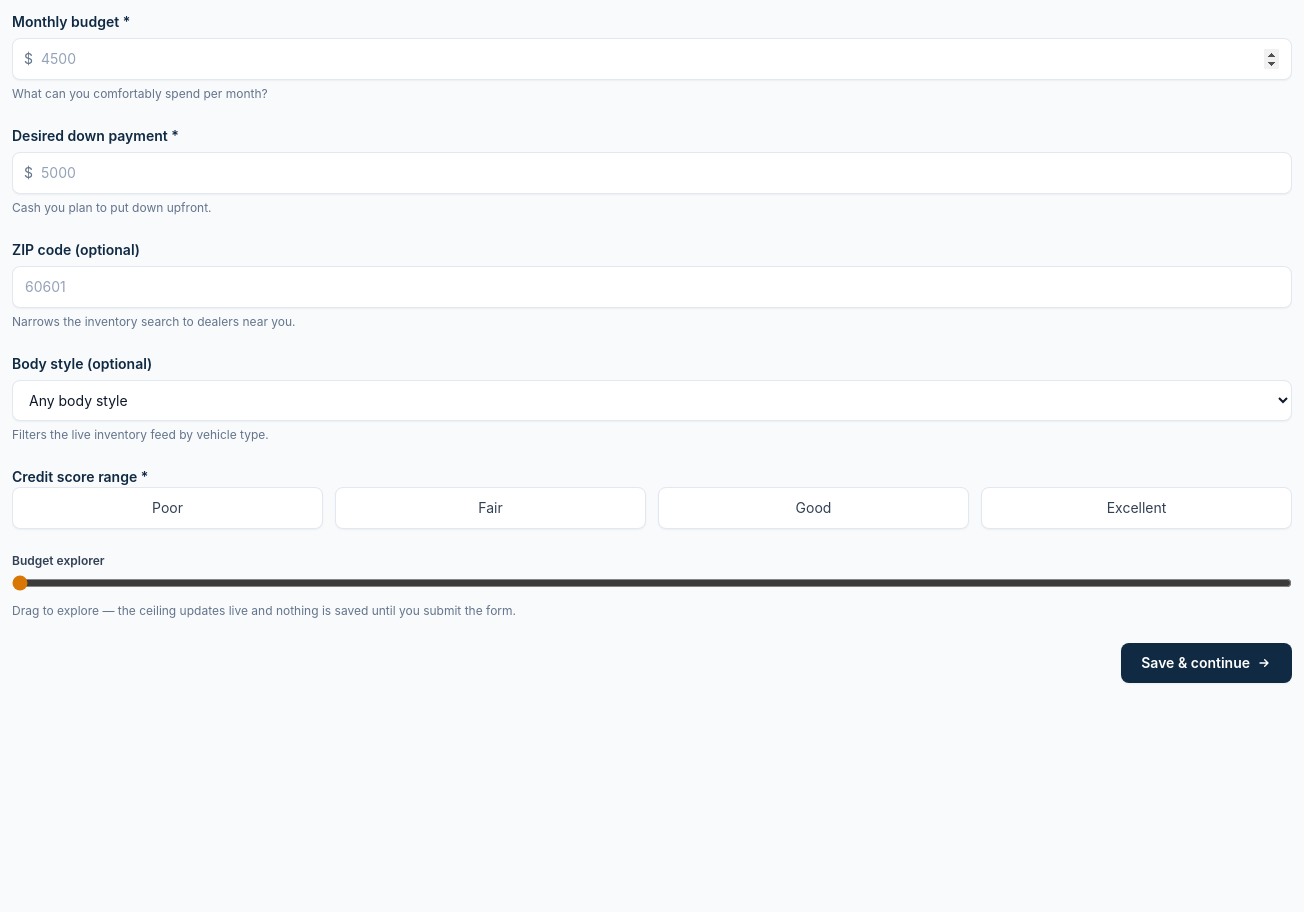
Test: IntakeForm › rejects empty monthly budget
Type "1000" into the number field labelled "Desired down payment *". click: (652, 173)
box: [12, 152, 1292, 194]
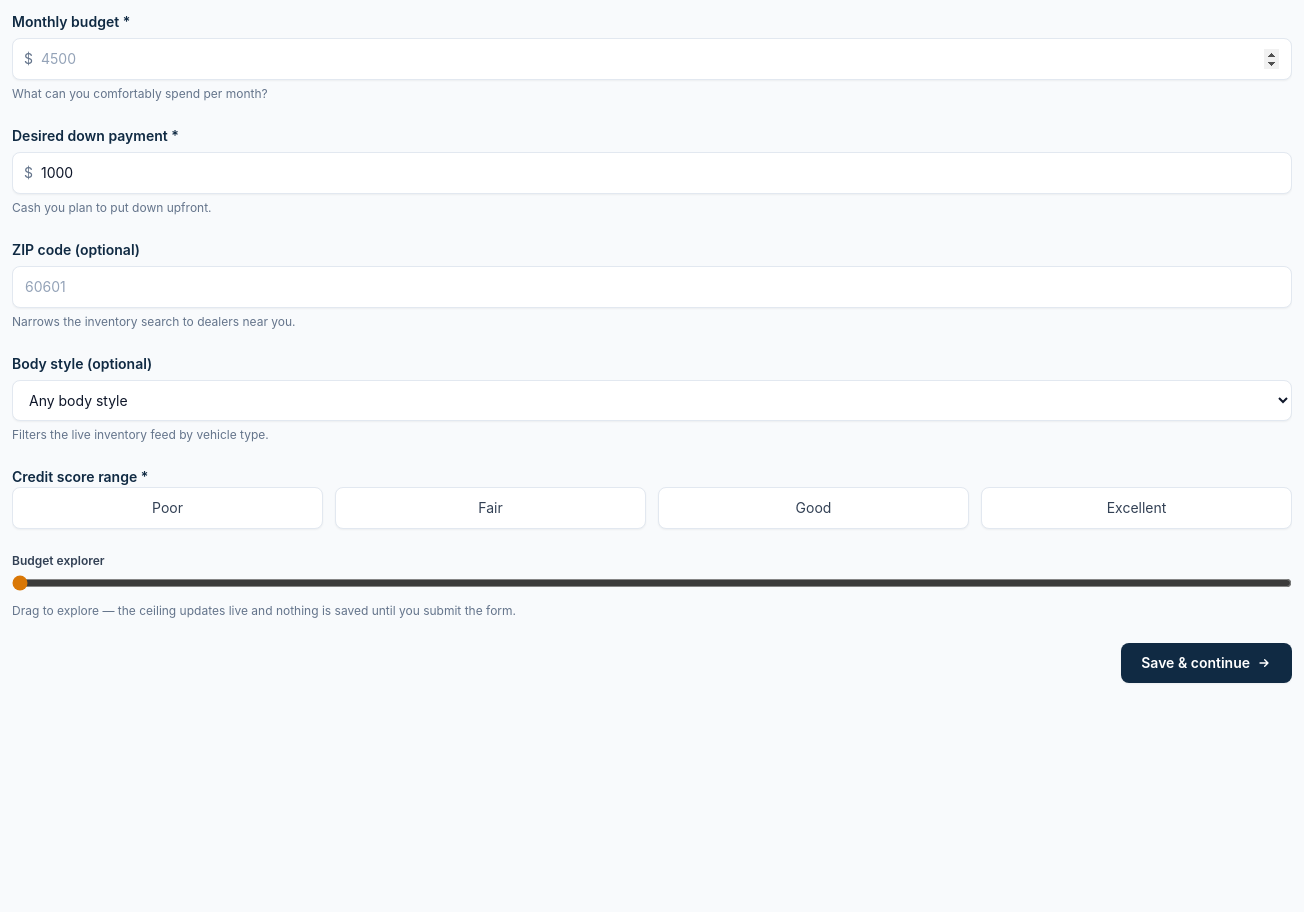
Click the radio button labelled "Good". click: (814, 508)
box: [658, 487, 969, 529]
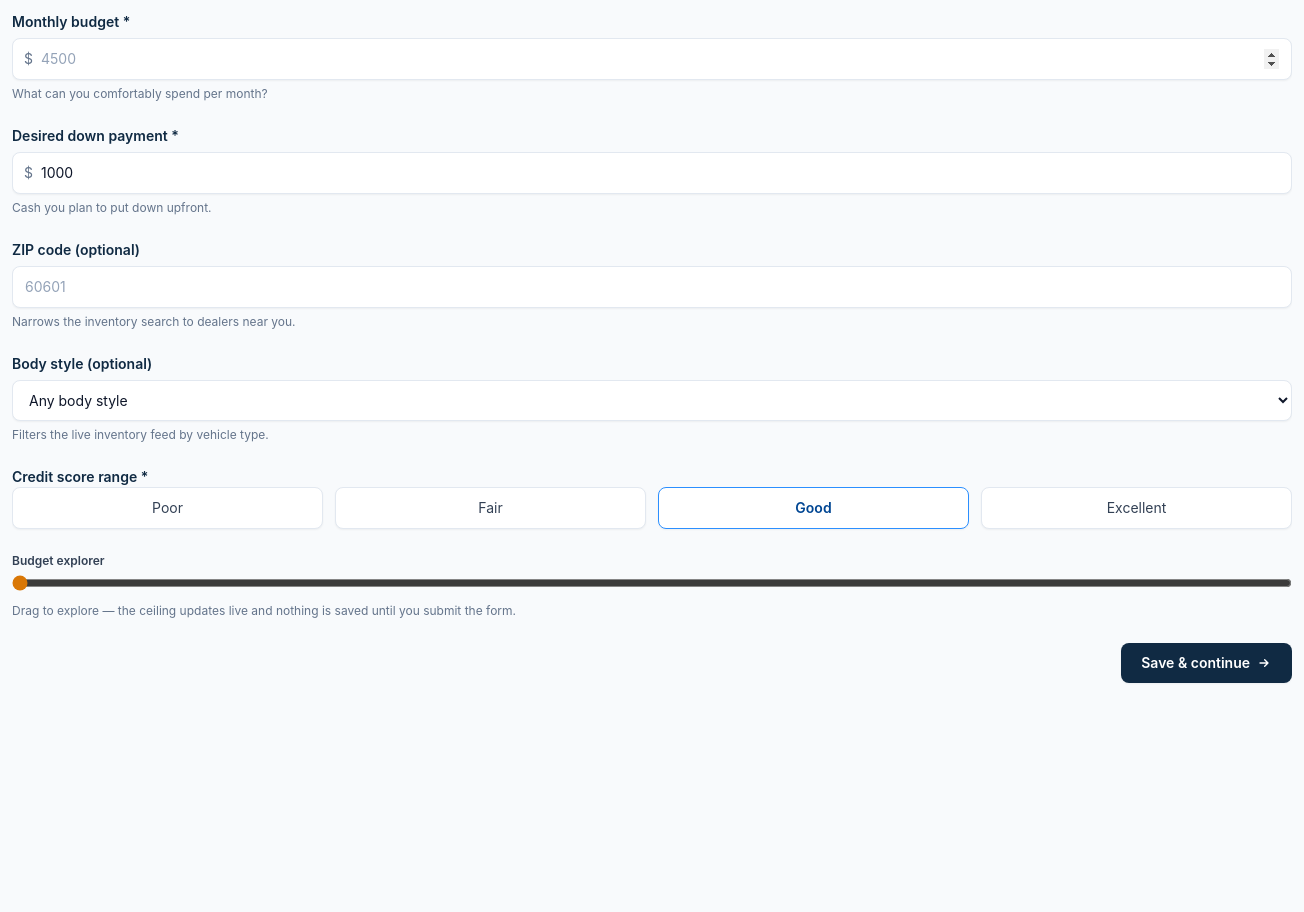
Click the button "Save & continue". click: (1207, 663)
box: [1121, 643, 1292, 683]
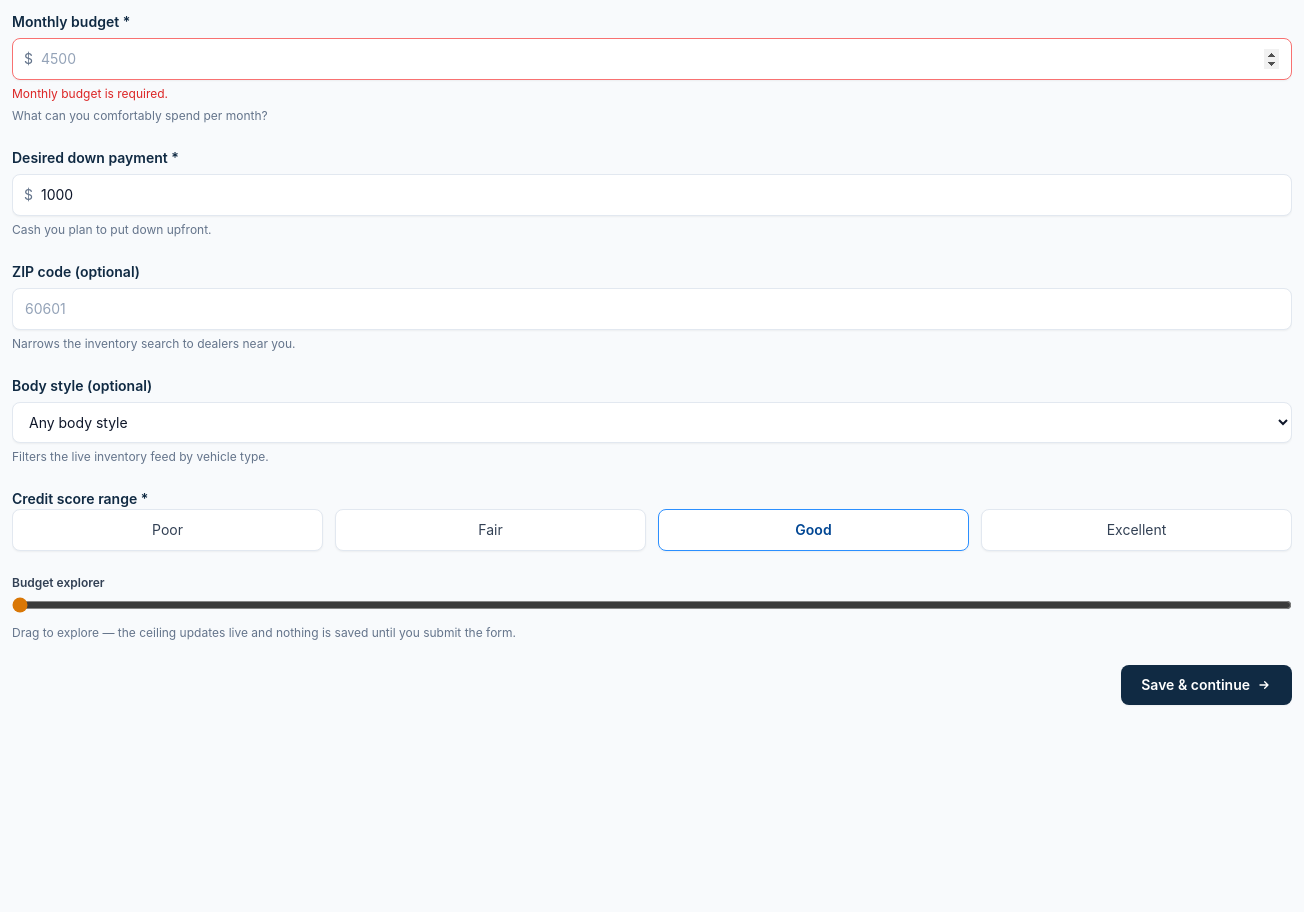
Check: the text "Monthly budget is required." is shown, box [12, 86, 168, 101]
